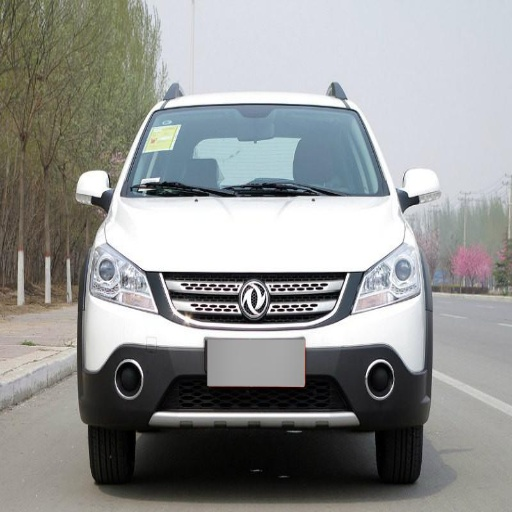front_bumper: (80, 271, 429, 431)
front_right_light: (89, 243, 155, 312)
hood: (107, 196, 404, 270)
left_mirror: (400, 167, 441, 208)
